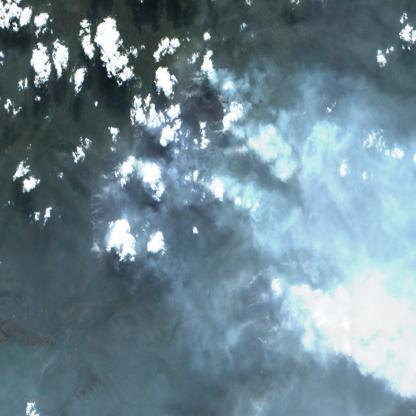fire: (84, 56, 240, 277), (245, 246, 326, 358)
